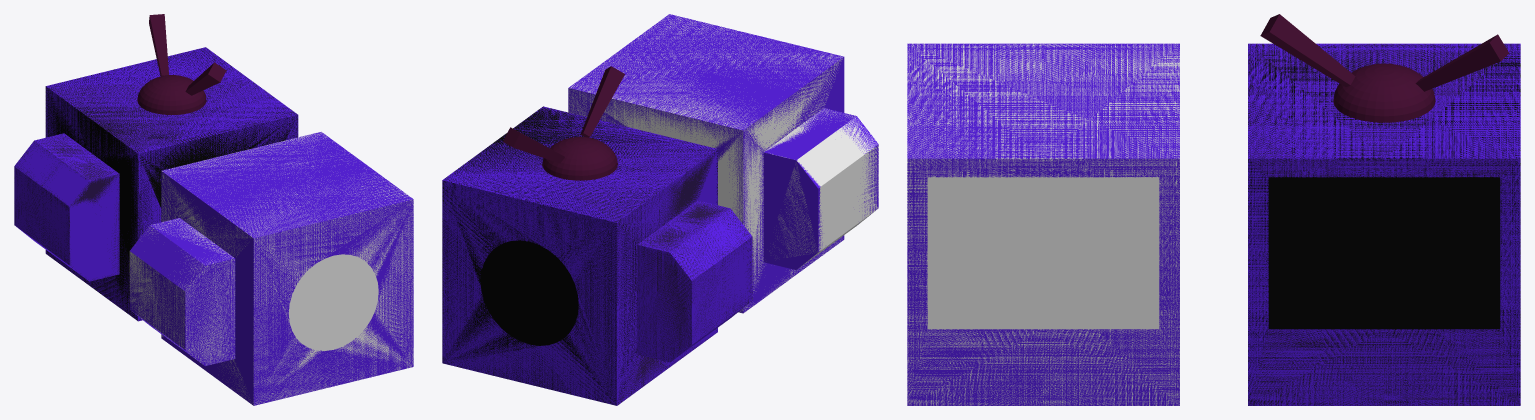
Rendered from Testing_Wireframe.glb.
3 renders of one model, left to right at view 1: azimuth 30°, elevation 25°; view 2: azimuth 150°, elevation 25°; view 3: azimuth 270°, elevation 25°, orthographic. The views are drawn at different scales.
Parts seen in each view (by area): view 1: Main_Body.001, Main_Body, Body_Basic_Shape, Test_Outline_Wireframe, Main_Body_Wireframe, Antenna_Base, Antenna_Right, Antenna_Left; view 2: Main_Body, Main_Body.001, Test_Outline_Wireframe, Body_Basic_Shape, Main_Body_Wireframe, Antenna_Base, Antenna_Left, Antenna_Right; view 3: Body_Basic_Shape, Main_Body.001, Test_Outline_Wireframe, Main_Body, Main_Body_Wireframe, Antenna_Base, Antenna_Left, Antenna_Right.
Part boxes in pixels (x1=…): Main_Body.001: x1=129, y1=132, x2=413, y2=405; Main_Body: x1=14, y1=47, x2=298, y2=321; Body_Basic_Shape: x1=129, y1=132, x2=413, y2=405; Test_Outline_Wireframe: x1=45, y1=47, x2=297, y2=320; Main_Body_Wireframe: x1=14, y1=81, x2=296, y2=320; Antenna_Base: x1=137, y1=75, x2=206, y2=114; Antenna_Right: x1=149, y1=14, x2=168, y2=76; Antenna_Left: x1=185, y1=62, x2=226, y2=95; Main_Body: x1=442, y1=106, x2=752, y2=405; Main_Body.001: x1=568, y1=14, x2=878, y2=313; Test_Outline_Wireframe: x1=442, y1=106, x2=717, y2=405; Body_Basic_Shape: x1=568, y1=14, x2=878, y2=313; Main_Body_Wireframe: x1=494, y1=107, x2=752, y2=404; Antenna_Base: x1=542, y1=136, x2=617, y2=180; Antenna_Left: x1=580, y1=66, x2=624, y2=137; Antenna_Right: x1=503, y1=127, x2=564, y2=163; Body_Basic_Shape: x1=907, y1=43, x2=1179, y2=405; Main_Body.001: x1=907, y1=43, x2=1179, y2=405; Test_Outline_Wireframe: x1=1248, y1=44, x2=1520, y2=405; Main_Body: x1=1248, y1=43, x2=1520, y2=405; Main_Body_Wireframe: x1=1248, y1=43, x2=1519, y2=405; Antenna_Base: x1=1333, y1=63, x2=1435, y2=122; Antenna_Left: x1=1260, y1=14, x2=1355, y2=86; Antenna_Right: x1=1415, y1=34, x2=1508, y2=91.
Bounding box in the file's own units: 10.5 × 10.98 × 18.
